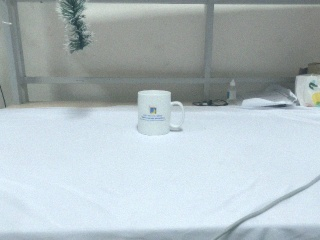bottle: (226, 79, 237, 104)
box: (295, 72, 320, 108)
cup: (133, 87, 185, 138)
